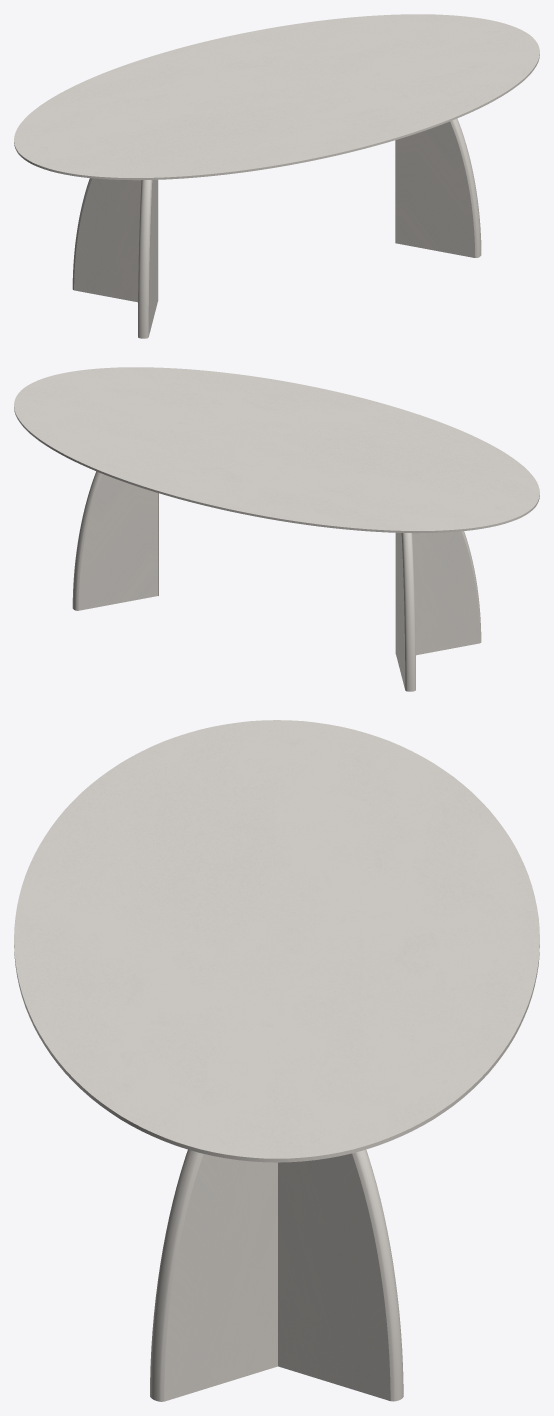
Rendered from pearlwhite_ellips_facet_newtable2.glb.
3 renders of one model, top to bottom at view 1: azimuth 30°, elevation 25°; view 2: azimuth 150°, elevation 25°; view 3: azimuth 270°, elevation 25°, orthographic. The views are drawn at different scales.
Visible parts, largest first — view 1: facet_ellips, newtable2_singleright2, newtable2_singleleft1, newtable2_singleright1; view 2: facet_ellips, newtable2_singleleft2, newtable2_singleright1, newtable2_singleleft1; view 3: facet_ellips, newtable2_singleright2, newtable2_singleleft2.
Part boxes in pixels (x1,y1,x2,y2): facet_ellips: [14, 14, 539, 180]; newtable2_singleright2: [395, 118, 481, 257]; newtable2_singleleft1: [72, 178, 158, 302]; newtable2_singleright1: [138, 180, 157, 338]; facet_ellips: [14, 367, 539, 533]; newtable2_singleleft2: [72, 471, 158, 610]; newtable2_singleright1: [395, 531, 481, 655]; newtable2_singleleft1: [396, 532, 415, 691]; facet_ellips: [14, 720, 539, 1162]; newtable2_singleright2: [150, 1149, 277, 1401]; newtable2_singleleft2: [278, 1149, 403, 1401].
Size of the model in its own units: 7.5 by 2.5 by 3.8.
Materials: 1 (1 with a texture image).
